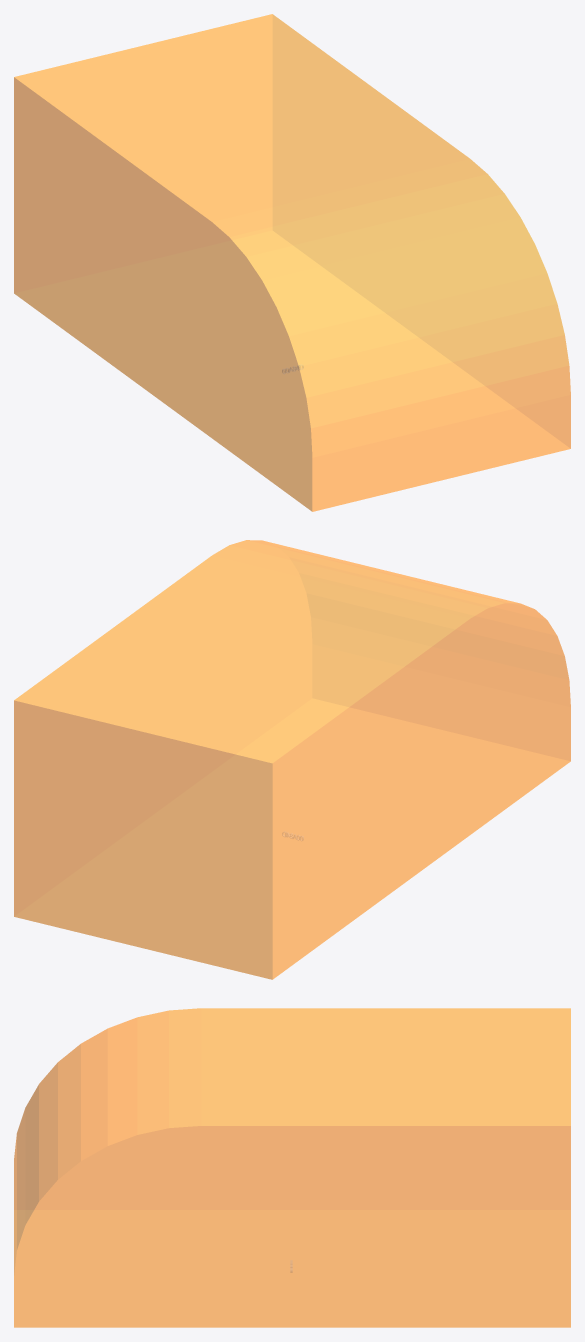
The picture shows the model from 3 angles, top to bottom: view 1: azimuth 30°, elevation 25°; view 2: azimuth 150°, elevation 25°; view 3: azimuth 270°, elevation 25°; orthographic projection. The views are drawn at different scales.
Visible parts, largest first — view 1: Cube; view 2: Cube; view 3: Cube.
Part boxes in pixels (x1,y1,x2,y2): Cube: (14,14,570,511); Cube: (14,540,570,979); Cube: (14,1008,570,1327).
Bounding box in the file's own units: 2 × 1.6 × 4.
